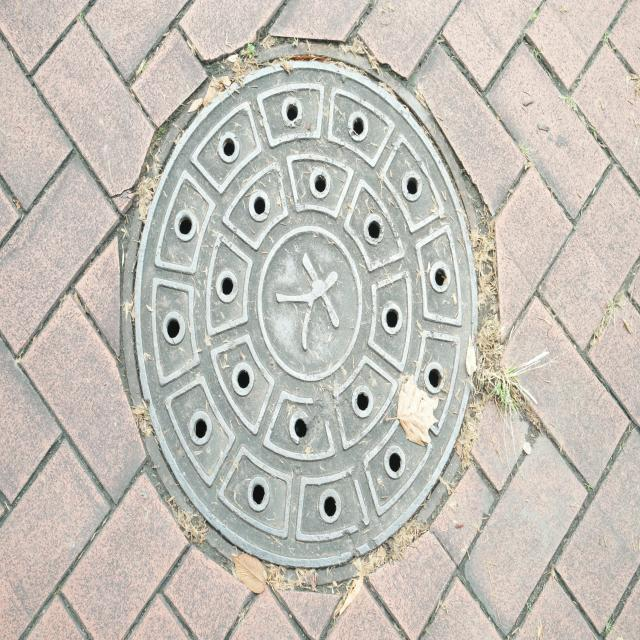manhole: (119, 36, 505, 588)
